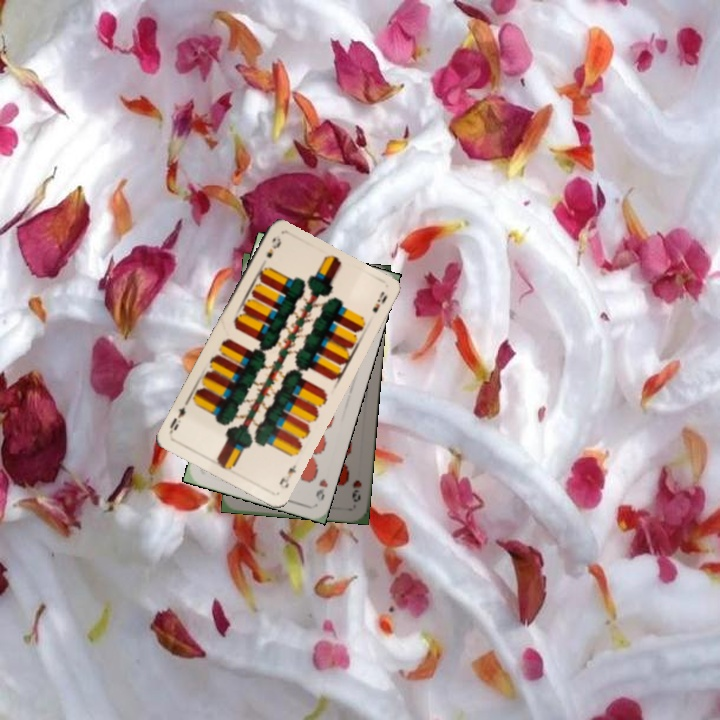E9: (275, 460, 299, 491), (262, 234, 284, 261)
H9: (311, 475, 331, 504), (348, 476, 364, 504)
